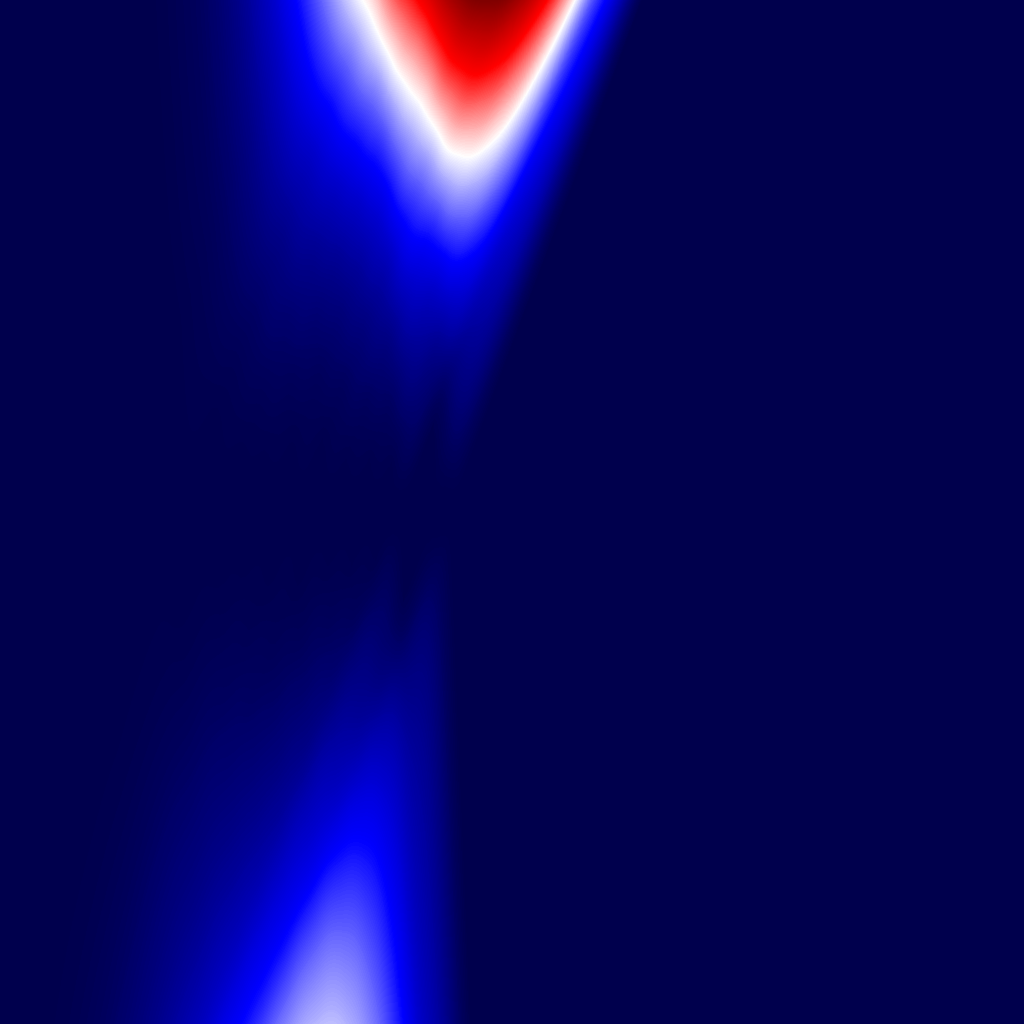diamond: (111, 341, 182, 683), (183, 420, 221, 604), (403, 421, 441, 603), (298, 437, 329, 587), (272, 448, 298, 576), (221, 451, 246, 573), (247, 453, 271, 571), (352, 455, 375, 569), (329, 457, 352, 567), (376, 460, 397, 564), (441, 486, 452, 538), (398, 500, 403, 524)
